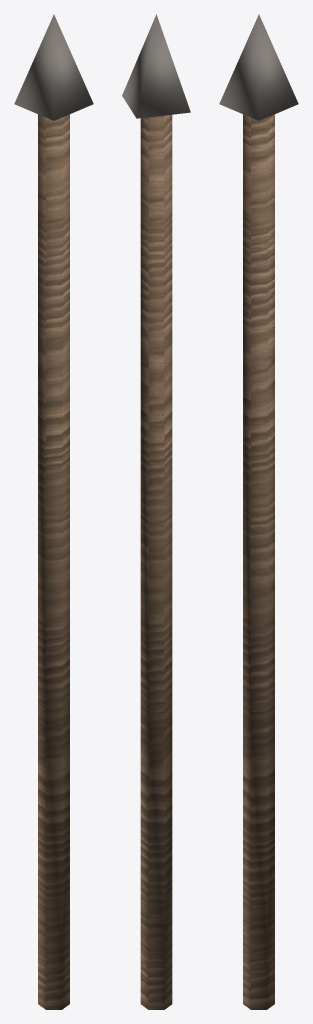
File: bolt.glb
3 renders of one model, left to right at view 1: azimuth 90°, elevation 25°; view 2: azimuth 150°, elevation 25°; view 3: azimuth 270°, elevation 25°, orthographic.
Parts seen in each view (by area): view 1: bolt; view 2: bolt; view 3: bolt.
Part boxes in pixels (bbox=[...]): bolt: bbox=[14, 14, 93, 1009]; bolt: bbox=[122, 14, 190, 1009]; bolt: bbox=[219, 14, 298, 1009].
Bounding box in the file's own units: 0.02 × 0.2745 × 0.02.
Materials: 2 (1 with a texture image).
